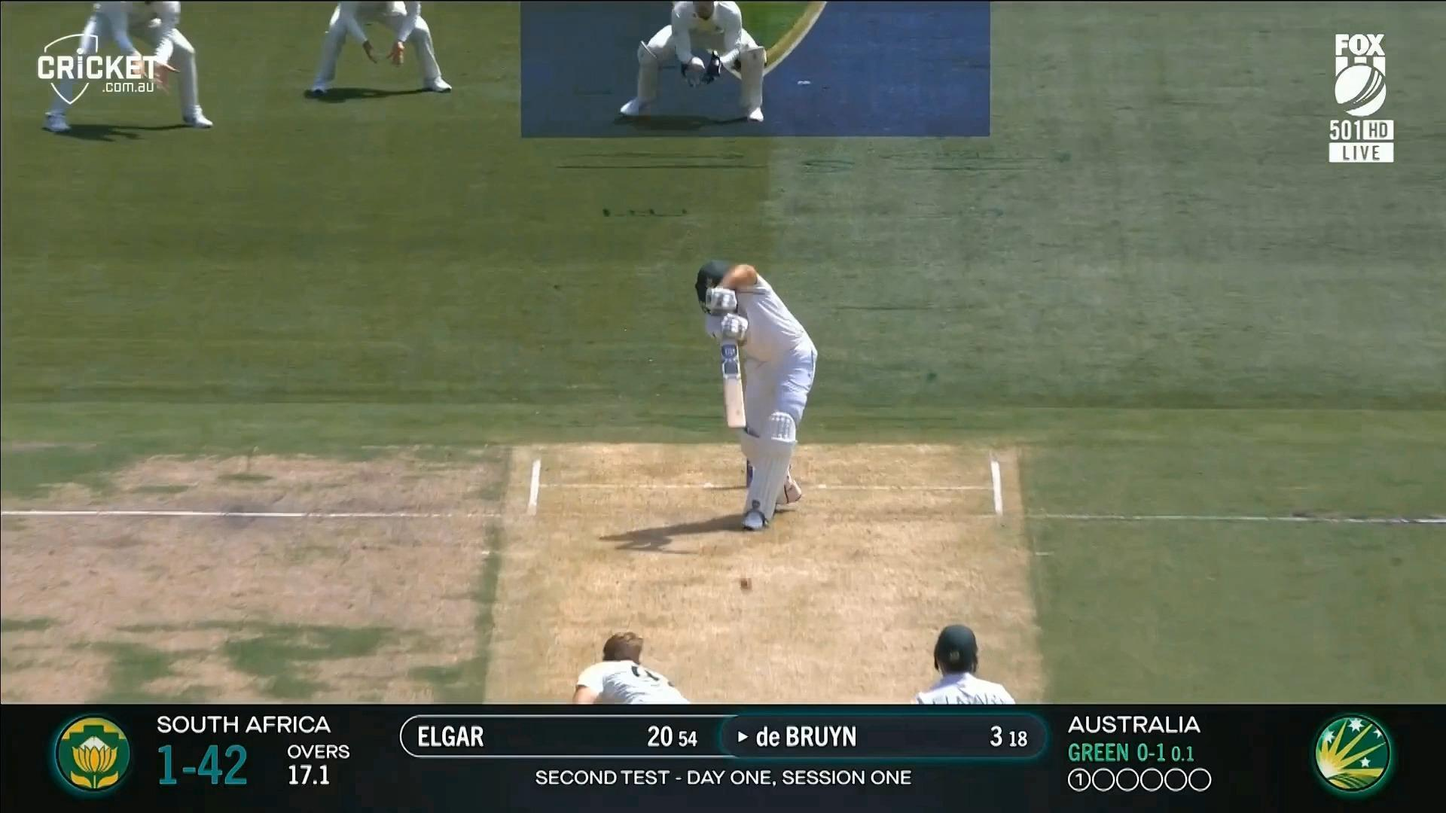BM 1: (696, 258, 819, 530)
BO: (552, 629, 747, 813)
